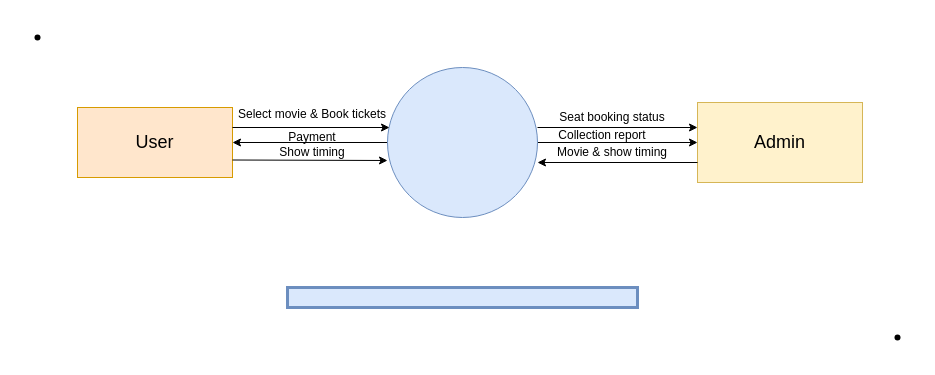
Some shapes in this 935 by 375 pixel diagram are drawn without their labels. Each missing label, with the centre of its shape:
DFD for Online Movie Ticket Booking: pixel 462 297
Online Movie Ticket Booking: pixel 462 142
